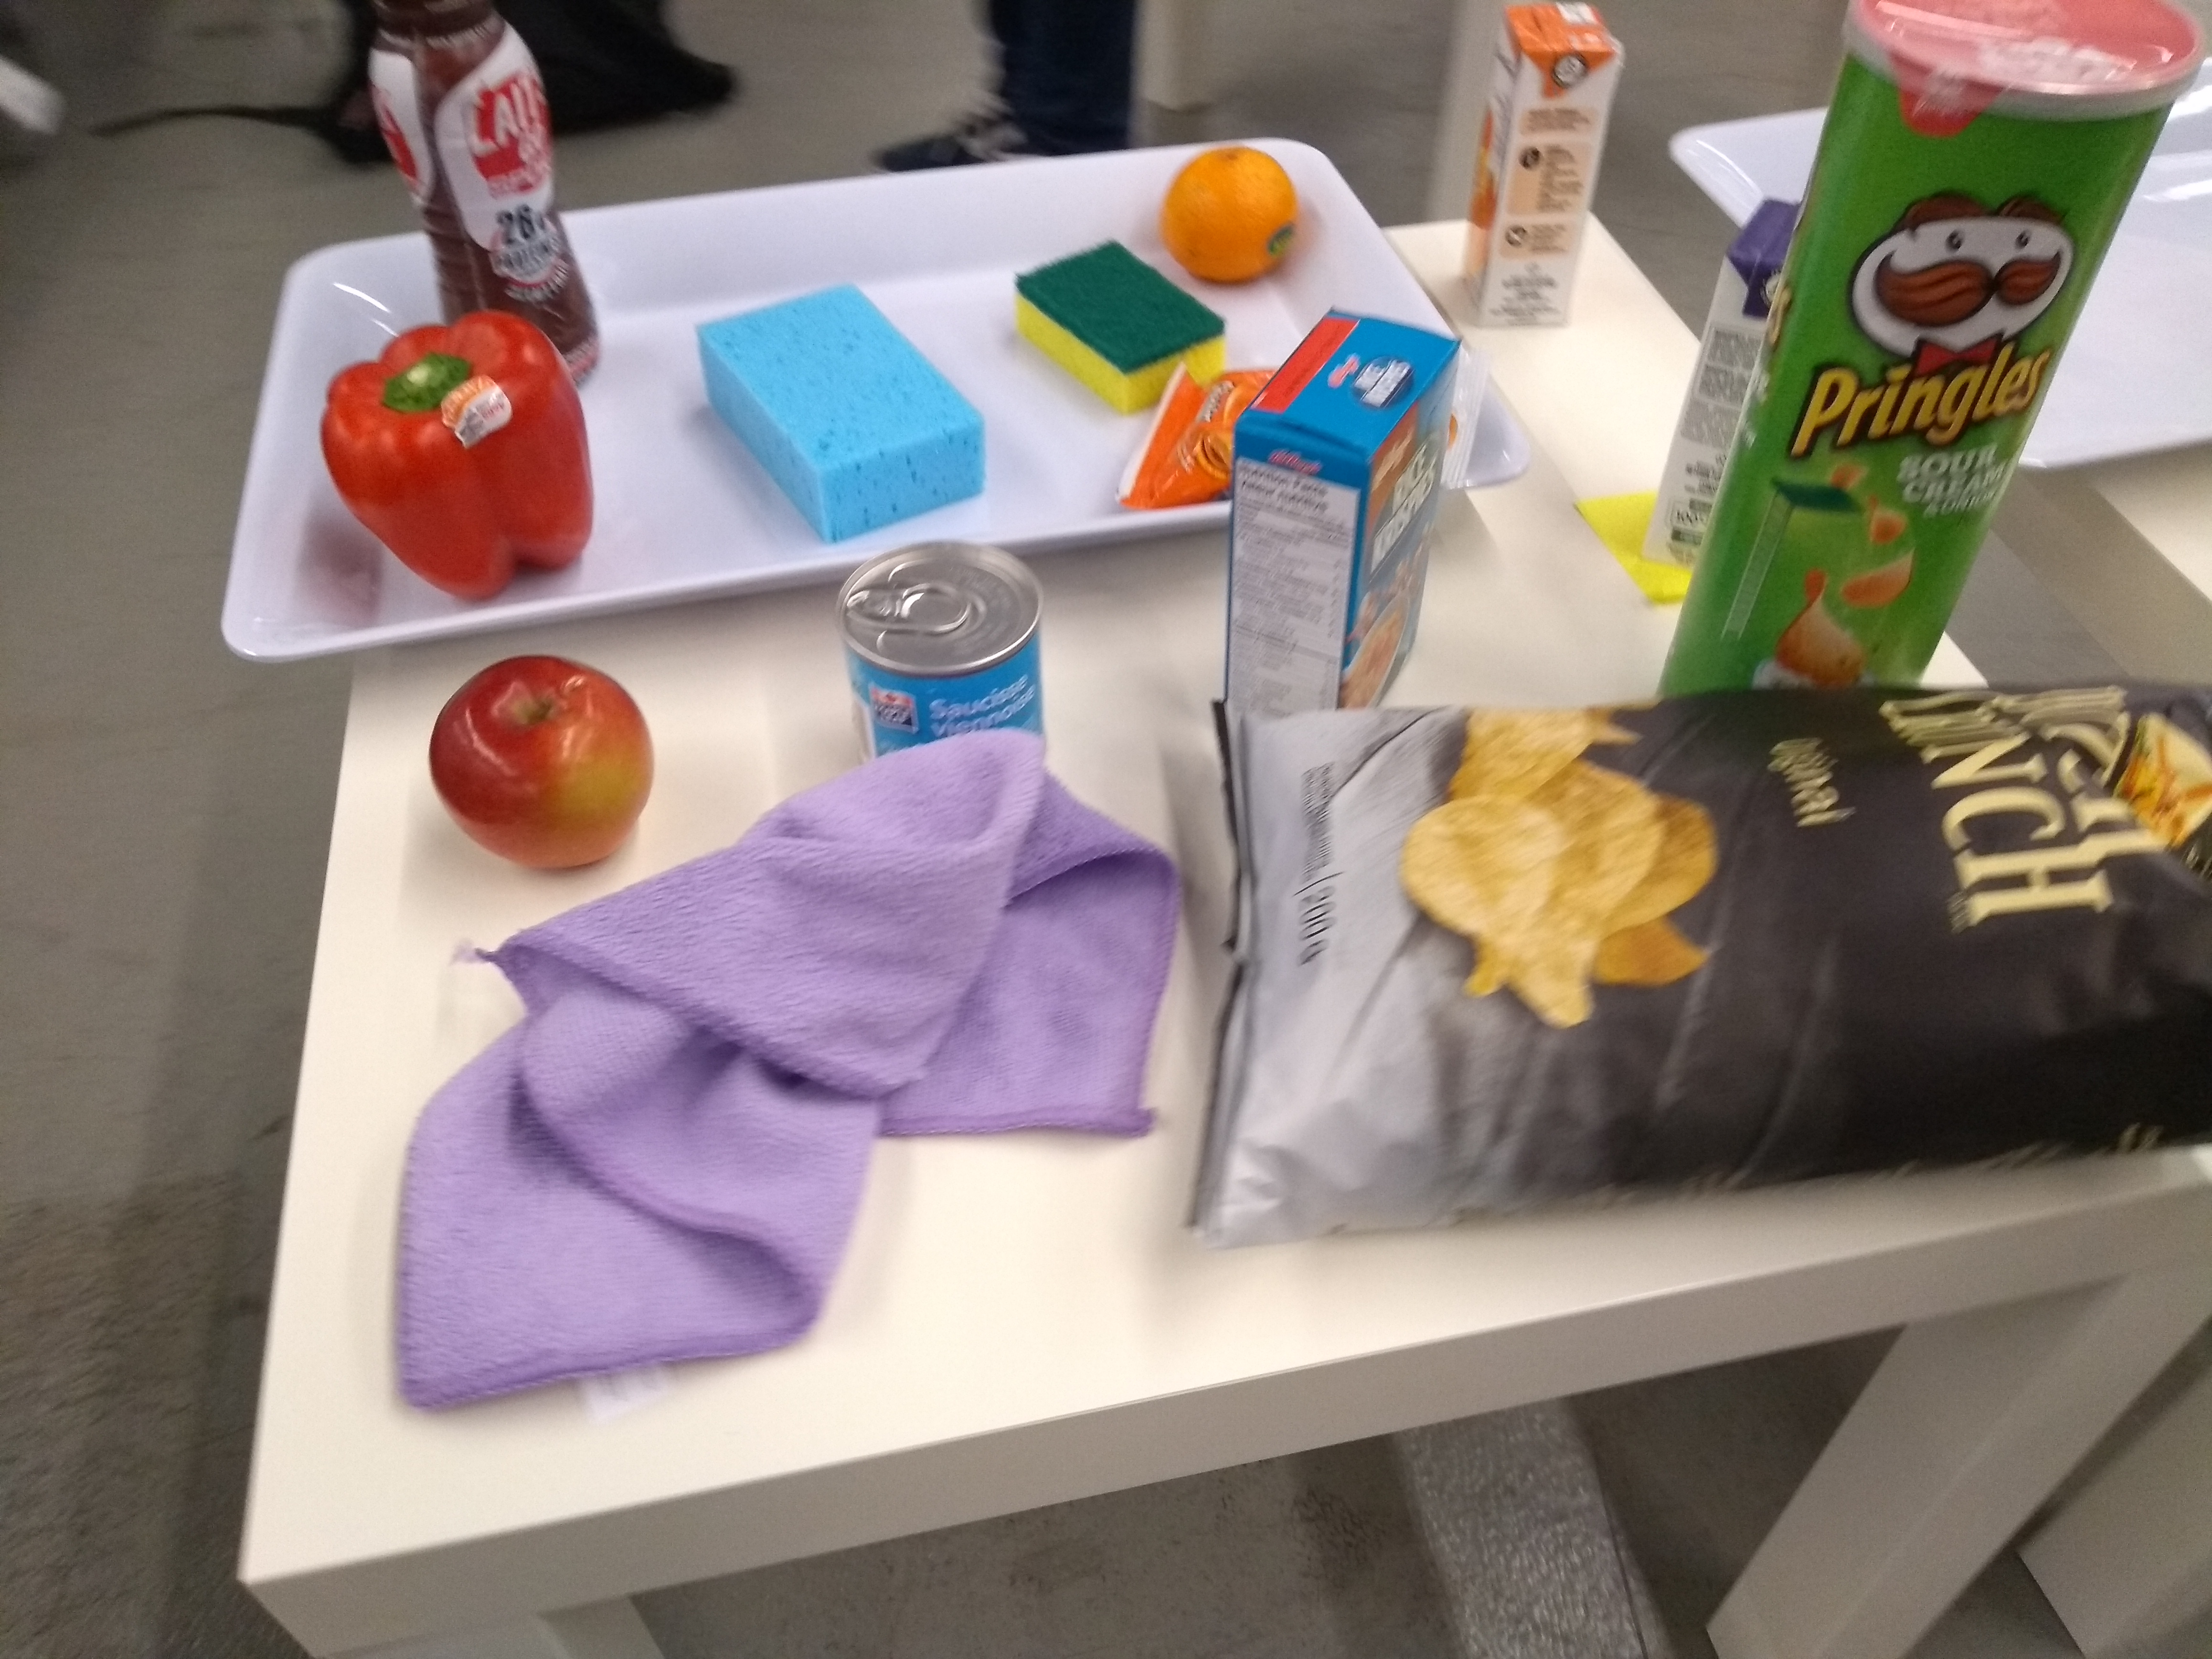apple: (425, 650, 662, 882)
cereal: (1214, 300, 1468, 725)
chocolate_drink: (361, 0, 611, 399)
cloth_opl: (378, 721, 1190, 1431)
orange: (1158, 131, 1301, 295)
orange_juice: (1447, 0, 1637, 345)
paprika: (312, 314, 601, 615)
potato_chips: (1150, 643, 2212, 1263)
pringles: (1648, 0, 2212, 706)
sausages: (841, 530, 1062, 769)
scrubby: (1007, 232, 1240, 416)
sponge_opl: (688, 263, 993, 558)
